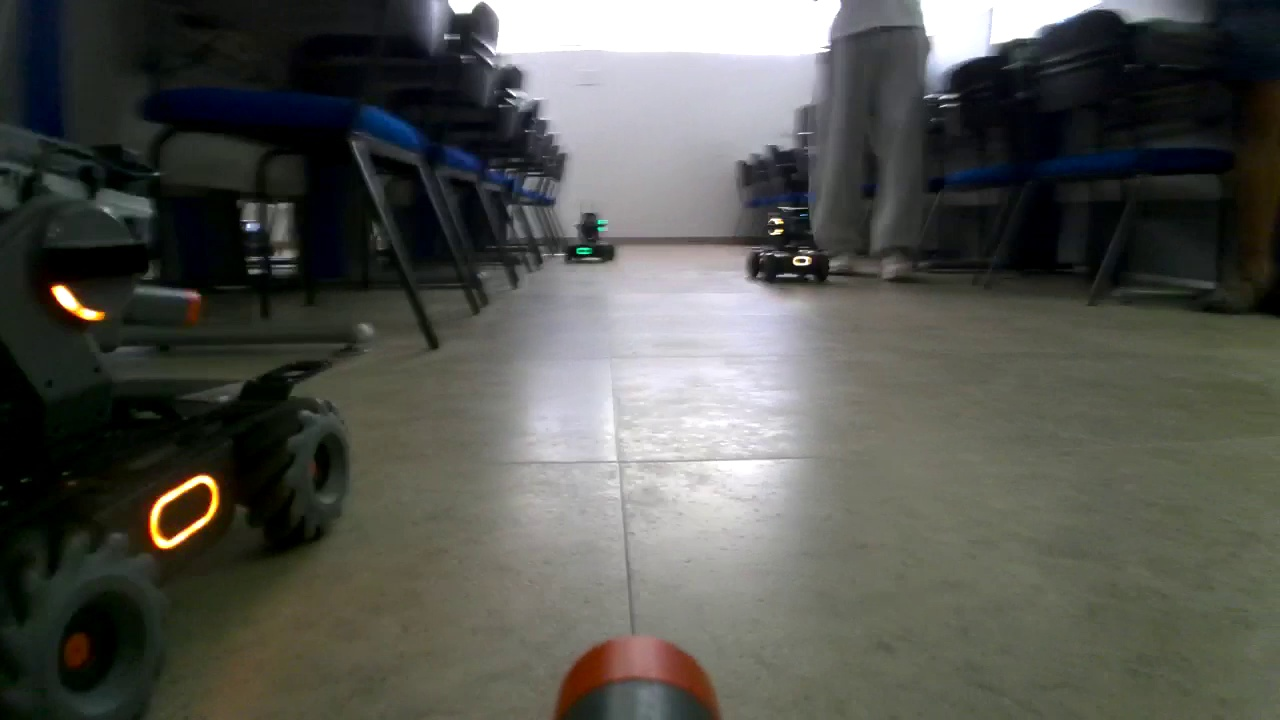robot: (2, 121, 354, 720), (747, 201, 830, 283), (561, 203, 616, 266)
